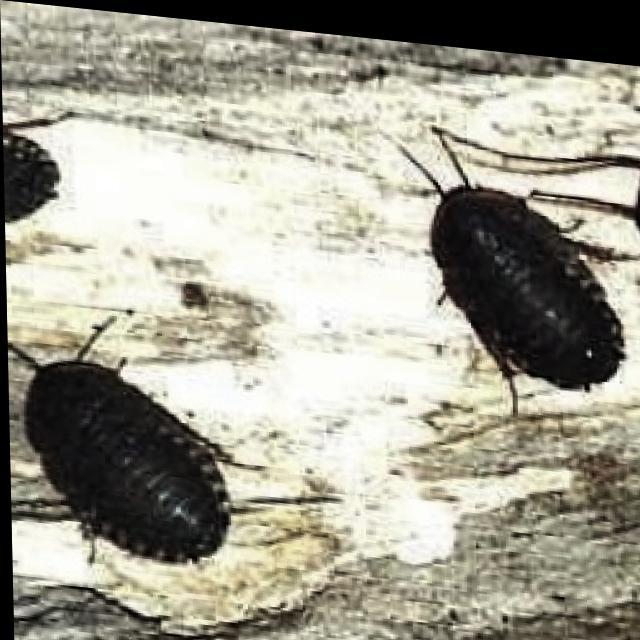cockroach: (0, 310, 246, 578), (414, 158, 639, 431)
